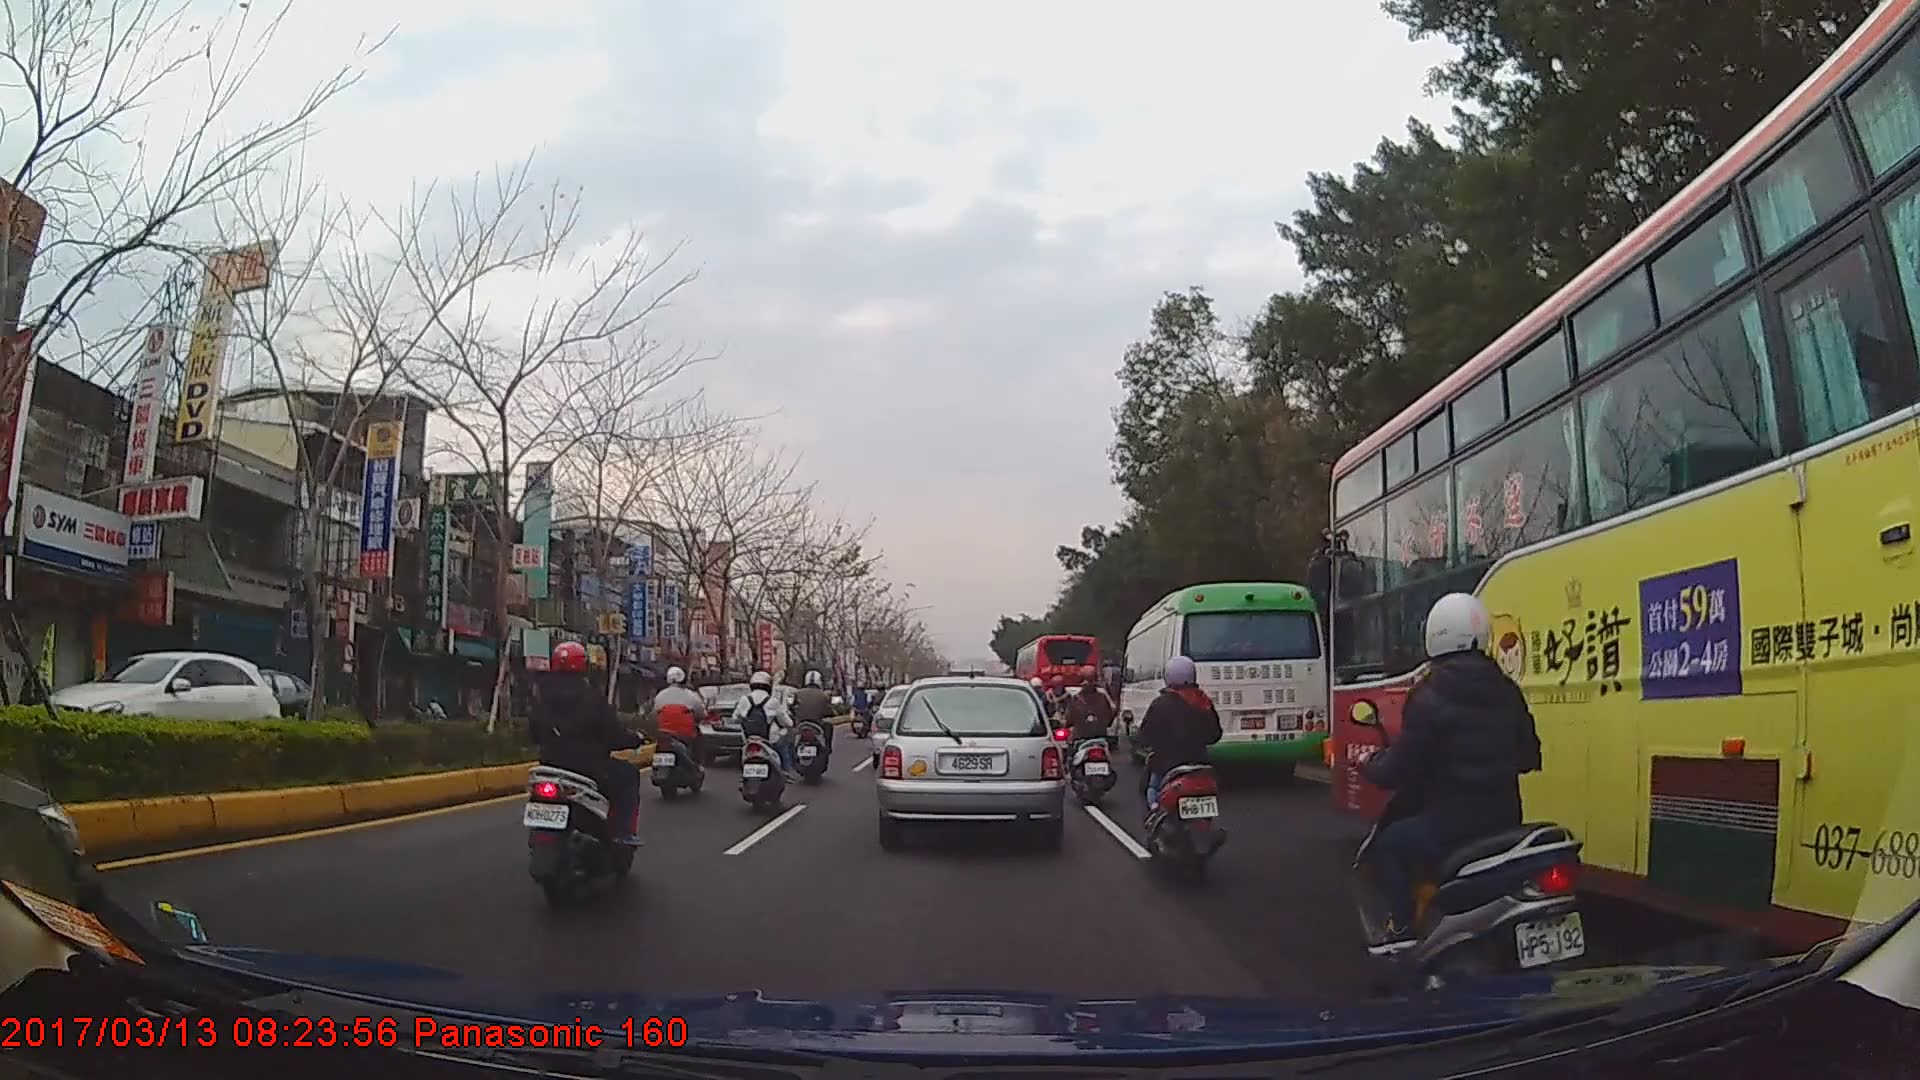rider: (1349, 591, 1598, 986), (520, 638, 639, 908), (1136, 651, 1236, 888), (732, 670, 792, 812), (649, 666, 712, 802), (1063, 666, 1116, 794), (790, 670, 837, 784), (852, 682, 873, 722)
vehicle: (1325, 0, 1919, 981), (1117, 582, 1327, 779), (877, 677, 1062, 842), (35, 647, 284, 764), (694, 684, 806, 772), (1014, 629, 1102, 736)
